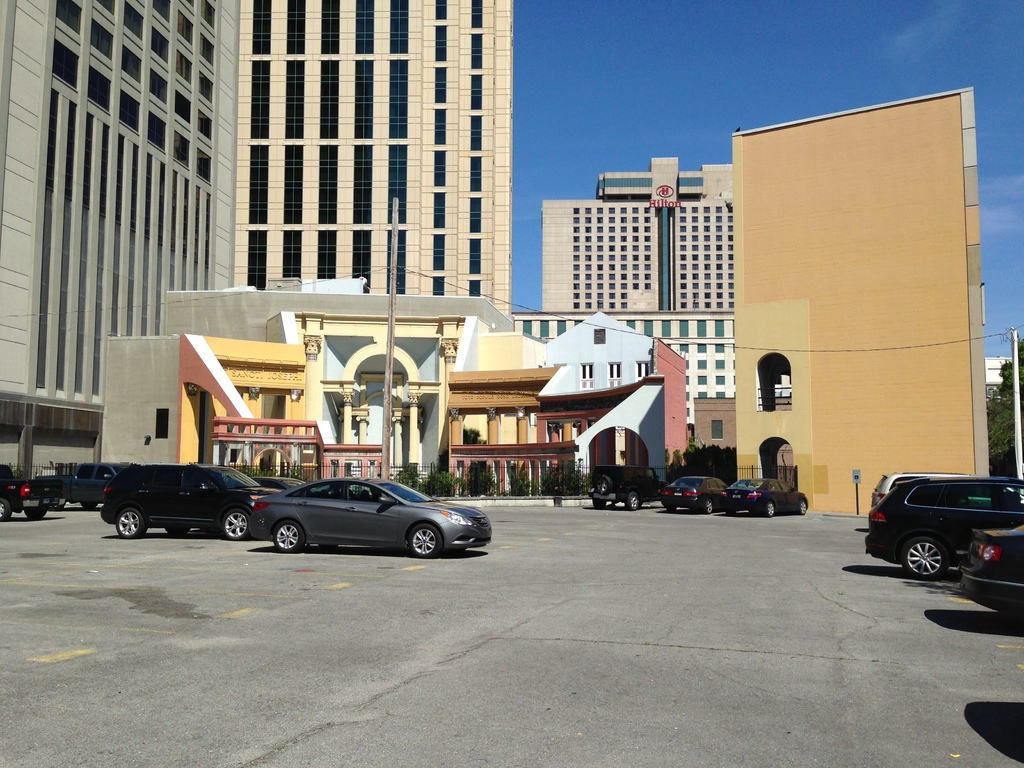Car: (240, 474, 483, 560), (864, 475, 1023, 583), (99, 462, 285, 543), (952, 489, 1023, 622), (865, 471, 977, 513), (718, 474, 807, 522), (655, 469, 732, 509)
